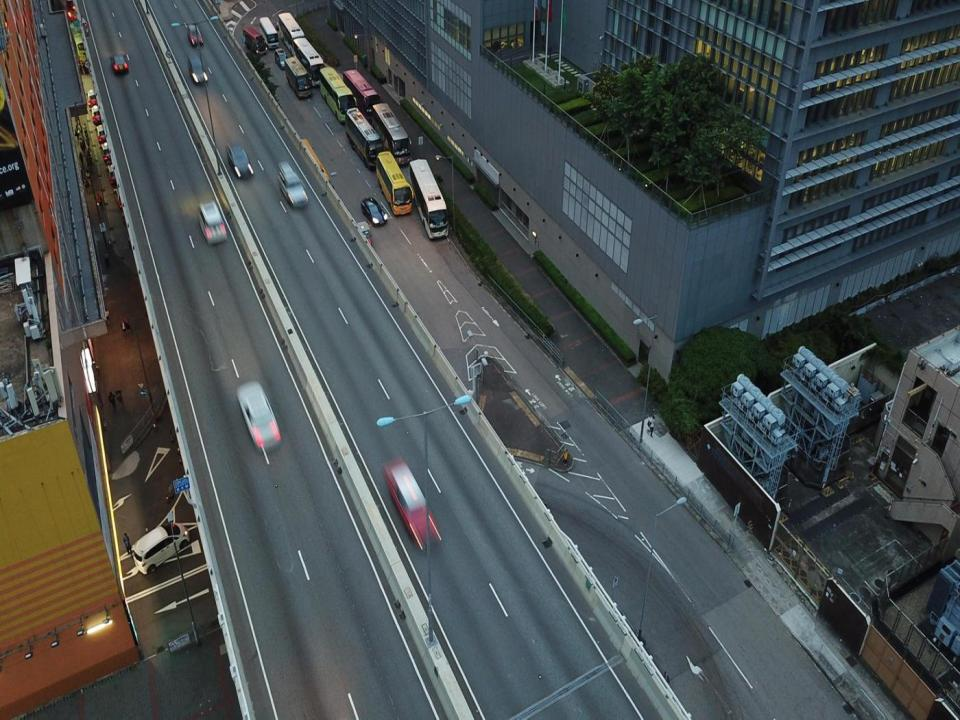bus: (411, 158, 450, 239), (371, 103, 412, 168), (345, 106, 383, 169), (378, 151, 414, 214), (317, 65, 356, 122), (342, 69, 382, 118), (293, 36, 326, 91), (284, 56, 314, 102), (278, 14, 301, 54), (256, 15, 280, 51)
car: (381, 456, 442, 552), (235, 381, 283, 453), (132, 522, 190, 577), (275, 161, 310, 209), (197, 201, 226, 247), (225, 140, 255, 180), (184, 49, 210, 84), (361, 196, 387, 228), (353, 218, 375, 254), (109, 51, 130, 77), (186, 23, 205, 47), (273, 46, 290, 68), (112, 188, 128, 208), (89, 103, 104, 124), (105, 164, 120, 184), (94, 123, 109, 142), (100, 142, 113, 162), (85, 88, 99, 105)
van: (242, 26, 269, 58)
